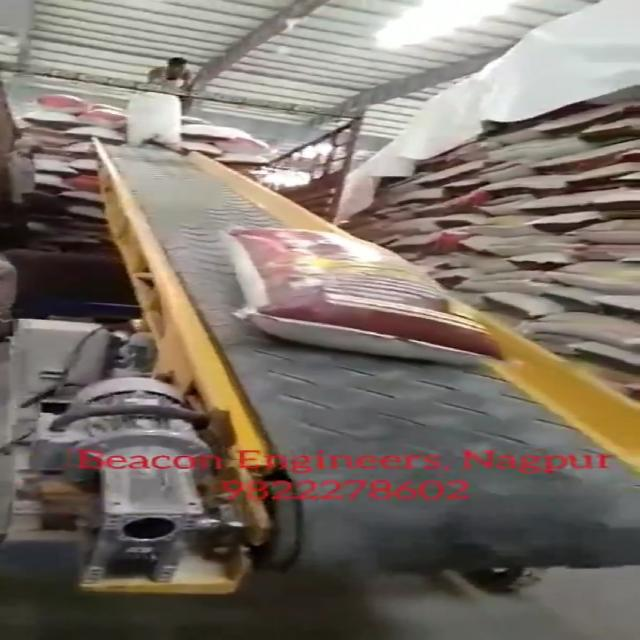Convoyeur: (75, 130, 640, 580)
